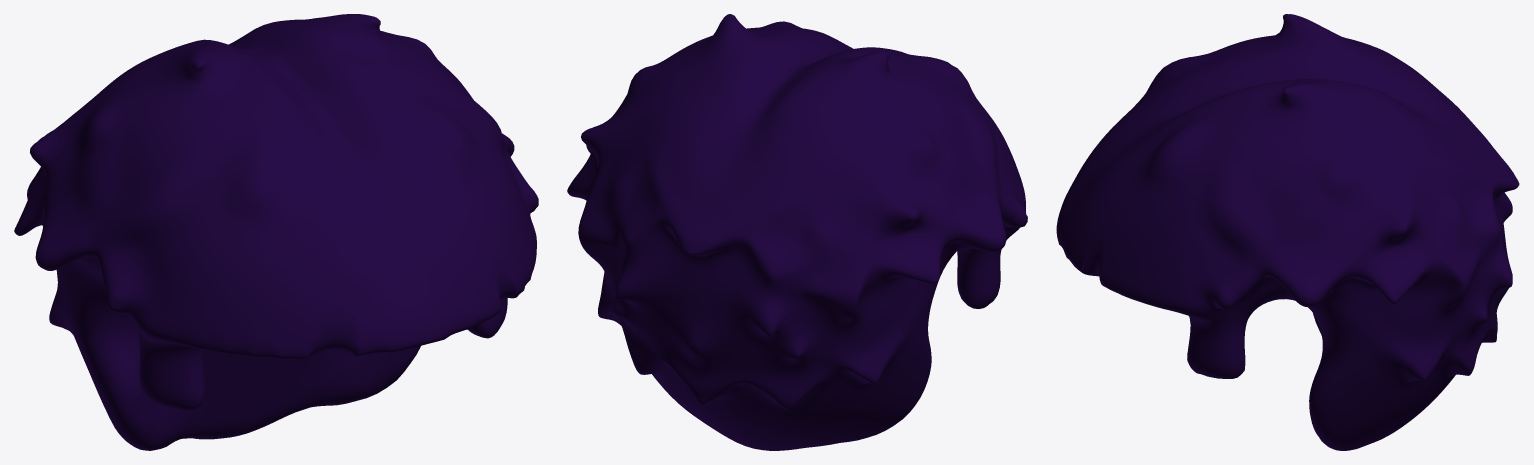
File: Model_Hair_Base_035_EdgarCut.fbx
The picture shows the model from 3 angles, left to right: view 1: azimuth 30°, elevation 25°; view 2: azimuth 150°, elevation 25°; view 3: azimuth 270°, elevation 25°; orthographic projection. The views are drawn at different scales.
Visible parts, largest first — view 1: Hair_Base_25EdgarCut_25; view 2: Hair_Base_25EdgarCut_25; view 3: Hair_Base_25EdgarCut_25.
Part boxes in pixels (<box>): Hair_Base_25EdgarCut_25: <box>14,14,538,450</box>; Hair_Base_25EdgarCut_25: <box>567,14,1027,450</box>; Hair_Base_25EdgarCut_25: <box>1056,14,1519,450</box>.
Bounding box in the file's own units: 195 × 170 × 190.
